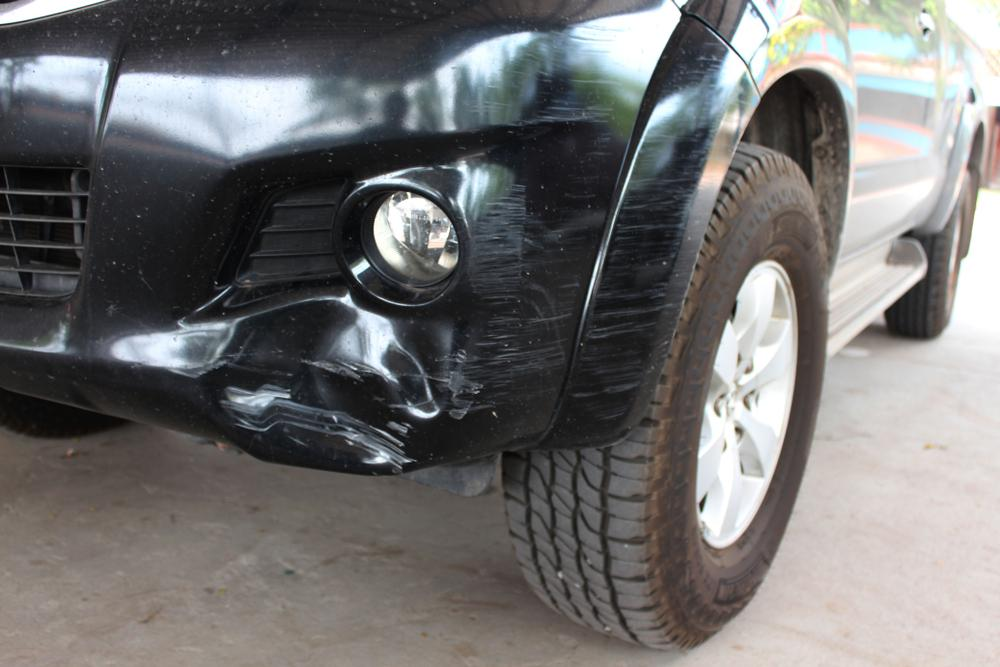dent: (206, 298, 451, 474)
scratch: (441, 12, 757, 429)
